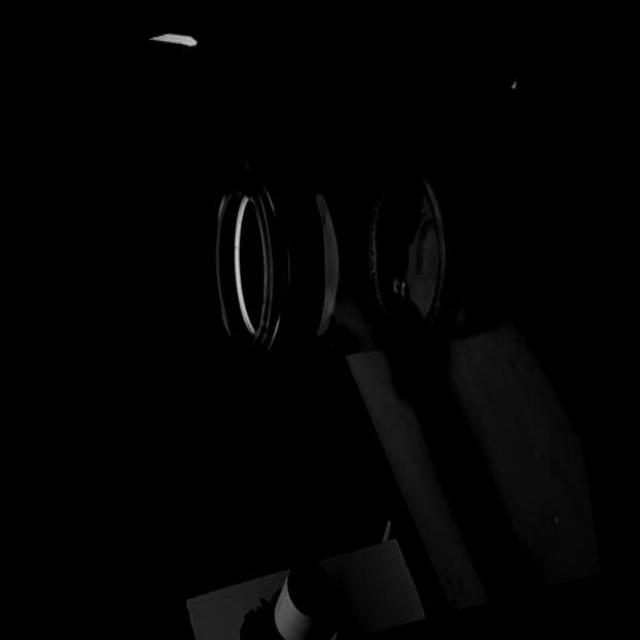glass: (198, 116, 466, 395)
